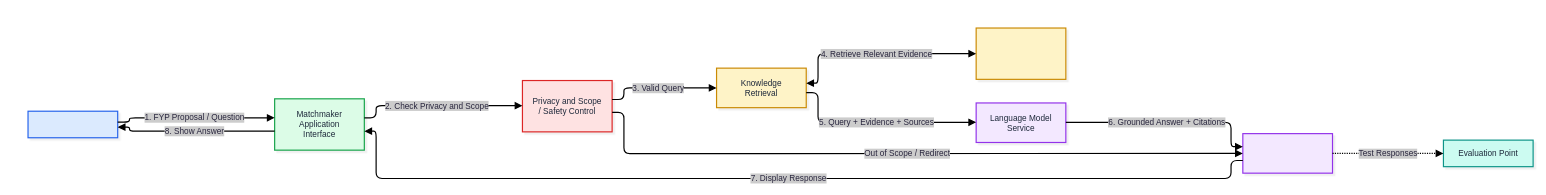
Image size: 1546x195. Some labels were removed from this diagram. The centre of each missing label's shape, as x and y in pixels:
Response / Output: the point at 1288,154
Student / User: the point at 73,125
Verified UTM FAI Knowledge Sources: the point at 1021,54
